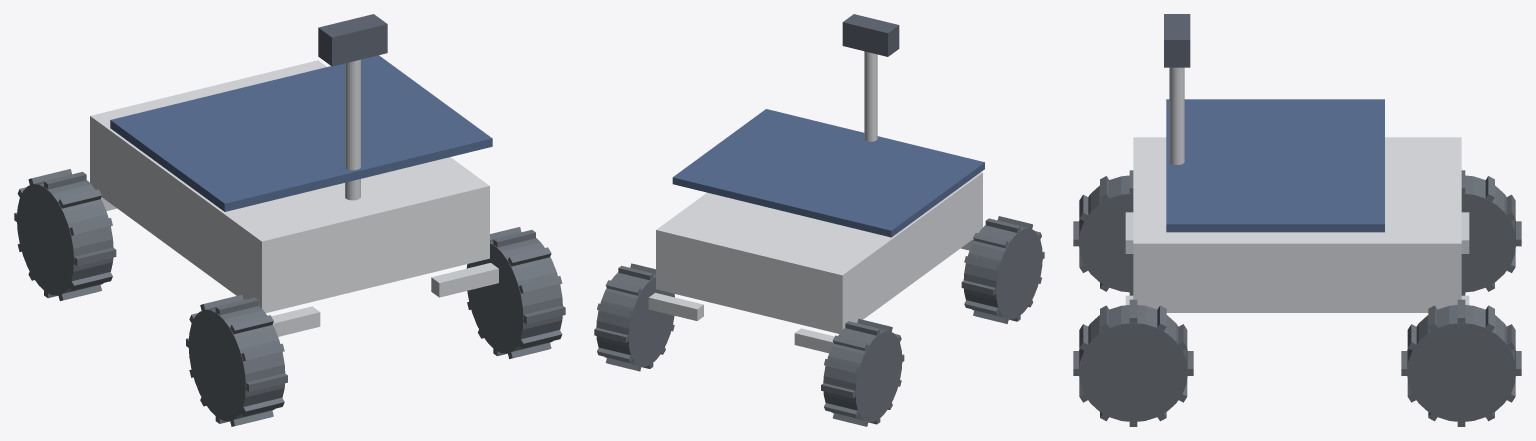
The model's file is lunar_generic.glb.
The picture shows the model from 3 angles, left to right: view 1: azimuth 30°, elevation 25°; view 2: azimuth 150°, elevation 25°; view 3: azimuth 270°, elevation 25°; orthographic projection. The views are drawn at different scales.
Parts seen in each view (by area): view 1: Cube, panel, wheel_03_R, wheel_01_R, wheel_01_L, camhead, mast, arm_1L, arm_1R; view 2: Cube, panel, wheel_01_R, wheel_03_R, wheel_03_L, camhead, mast, arm_3L, arm_3R; view 3: Cube, panel, wheel_01_L, wheel_03_L, wheel_01_R, wheel_03_R, mast, camhead.
Part boxes in pixels (x1,y1,x2,y2): Cube: (90, 60, 489, 312); panel: (110, 55, 492, 211); wheel_03_R: (14, 169, 116, 300); wheel_01_R: (186, 294, 287, 426); wheel_01_L: (466, 227, 565, 358); camhead: (318, 14, 387, 66); mast: (345, 59, 360, 200); arm_1L: (431, 263, 498, 297); arm_1R: (271, 306, 320, 336); Cube: (656, 172, 982, 333); panel: (672, 109, 984, 237); wheel_01_R: (961, 216, 1044, 323); wheel_03_R: (821, 318, 904, 426); wheel_03_L: (594, 263, 674, 371); camhead: (842, 14, 899, 56); mast: (864, 51, 877, 141); arm_3L: (648, 292, 703, 321); arm_3R: (794, 328, 834, 353); Cube: (1133, 137, 1461, 312); panel: (1166, 99, 1384, 232); wheel_01_L: (1073, 299, 1193, 426); wheel_03_L: (1401, 299, 1521, 426); wheel_01_R: (1073, 170, 1133, 295); wheel_03_R: (1461, 170, 1521, 295); mast: (1169, 67, 1184, 164); camhead: (1164, 14, 1190, 67).
Bounding box in the file's own units: 1.6 × 1.65 × 2.05.
